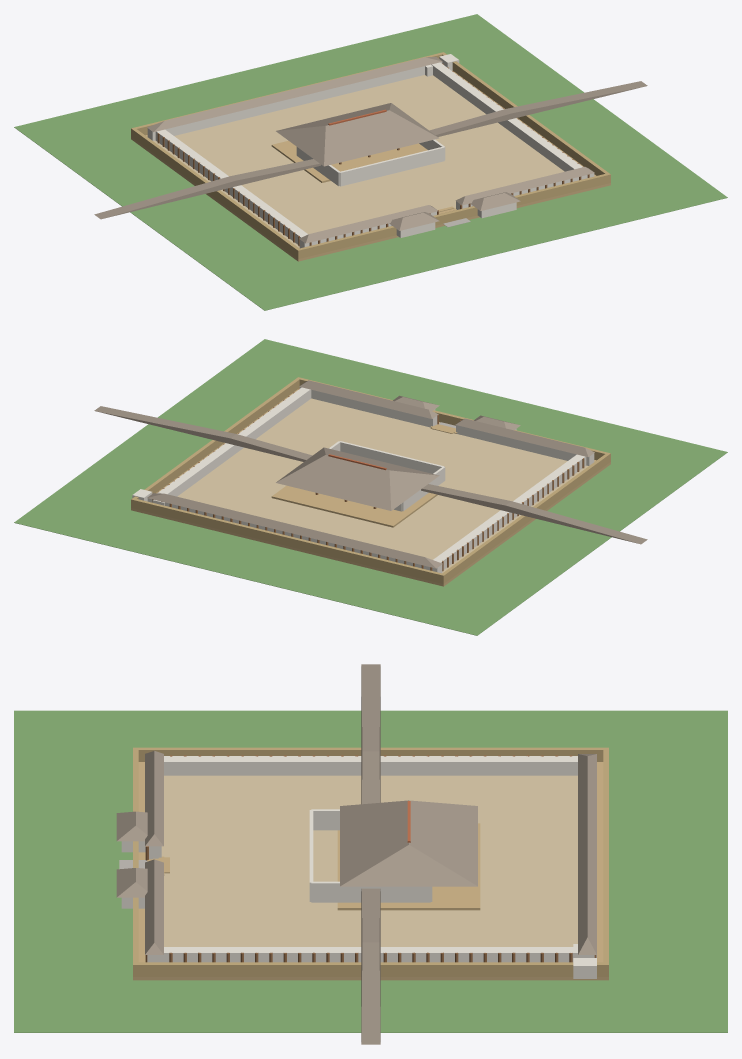
The model's file is 二里头遗址.glb.
The picture shows the model from 3 angles, top to bottom: view 1: azimuth 30°, elevation 25°; view 2: azimuth 150°, elevation 25°; view 3: azimuth 270°, elevation 25°; orthographic projection. The views are drawn at different scales.
Visible parts, largest first — view 1: 草地, 庭院地面, 主殿屋顶, 围廊北顶, 围廊_北, 围廊_东, 围廊西顶, 围廊_西, 围廊东顶, 围墙_西, 围墙_东, 殿堂台基 (+10 smaller); view 2: 草地, 庭院地面, 主殿屋顶, 围墙_北, 围廊北顶, 围廊_东, 殿堂台基, 围廊西顶, 围廊_西, 围廊东顶, 围墙_西, 围墙_东 (+8 smaller); view 3: 草地, 庭院地面, 主殿屋顶, 围廊_西, 围墙_东, 围廊_东, 围墙_西, 主台基, 围廊北顶, 围廊东顶, 围廊西顶, 殿堂台基 (+6 smaller).
Boxes of the visible parts, <box> form: 草地: <box>14,14,727,310</box>; 庭院地面: <box>153,75,564,247</box>; 主殿屋顶: <box>276,103,439,166</box>; 围廊北顶: <box>147,56,442,132</box>; 围廊_北: <box>147,62,442,140</box>; 围廊_东: <box>431,62,591,179</box>; 围廊西顶: <box>94,159,320,219</box>; 围廊_西: <box>155,129,314,245</box>; 围廊东顶: <box>429,81,647,136</box>; 围墙_西: <box>131,128,299,258</box>; 围墙_东: <box>441,52,610,181</box>; 殿堂台基: <box>271,140,427,182</box>; 草地: <box>14,339,727,635</box>; 庭院地面: <box>177,398,588,572</box>; 主殿屋顶: <box>276,447,439,510</box>; 围墙_北: <box>131,498,445,584</box>; 围廊北顶: <box>147,493,442,568</box>; 围廊_东: <box>150,387,311,502</box>; 殿堂台基: <box>271,485,437,527</box>; 围廊西顶: <box>421,484,647,544</box>; 围廊_西: <box>426,454,586,570</box>; 围廊东顶: <box>94,406,312,461</box>; 围墙_西: <box>440,453,610,583</box>; 围墙_东: <box>131,377,299,507</box>; 草地: <box>14,710,727,1032</box>; 庭院地面: <box>161,775,577,946</box>; 主殿屋顶: <box>340,800,477,886</box>; 围廊_西: <box>164,756,577,775</box>; 围墙_东: <box>133,962,608,976</box>; 围廊_东: <box>161,947,580,962</box>; 围墙_西: <box>133,747,608,761</box>; 主台基: <box>133,762,608,980</box>; 围廊北顶: <box>578,754,596,954</box>; 围廊东顶: <box>361,888,380,1044</box>; 围廊西顶: <box>361,664,380,804</box>; 殿堂台基: <box>337,823,480,910</box>.
Size of the model in its own units: 189 by 11.85 by 150.
